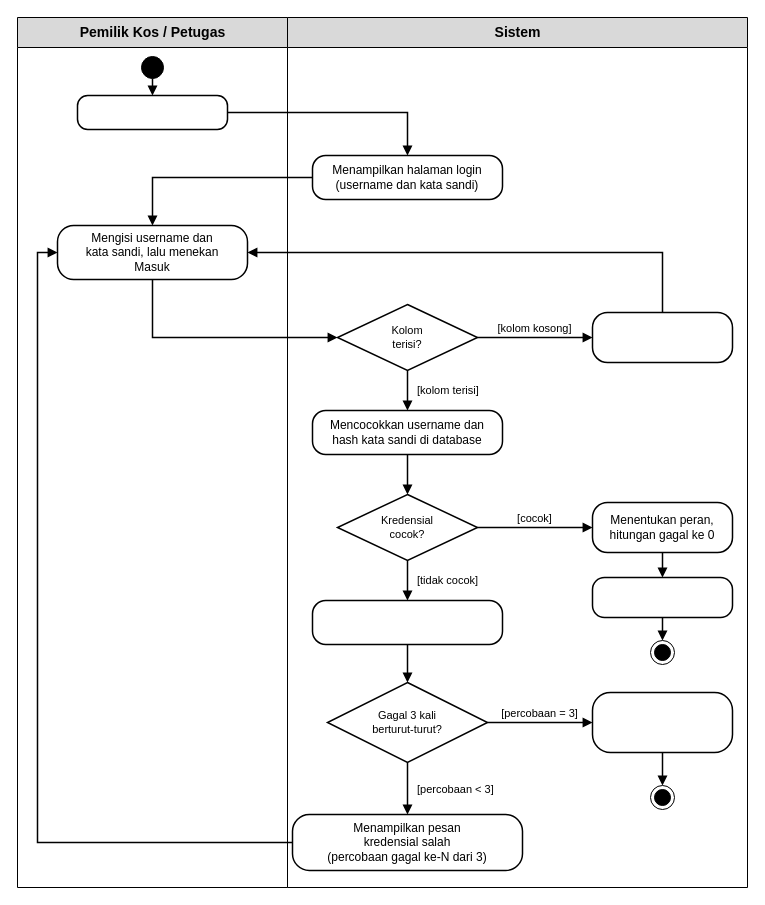
Image size: 765x905. Some labels were removed from this diagram. The shapes that lost their labels are listed below. From the top down, each one's centre as x and y in pixels, then its label:
[152,112]: Membuka aplikasi
[662,337]: Menampilkan pesan: kolom wajib diisi
[662,597]: Menampilkan menu utama sesuai peran
[407,622]: Menambah hitungan percobaan gagal
[662,722]: Menampilkan pesan batas 3 kali, lalu menutup aplikasi
